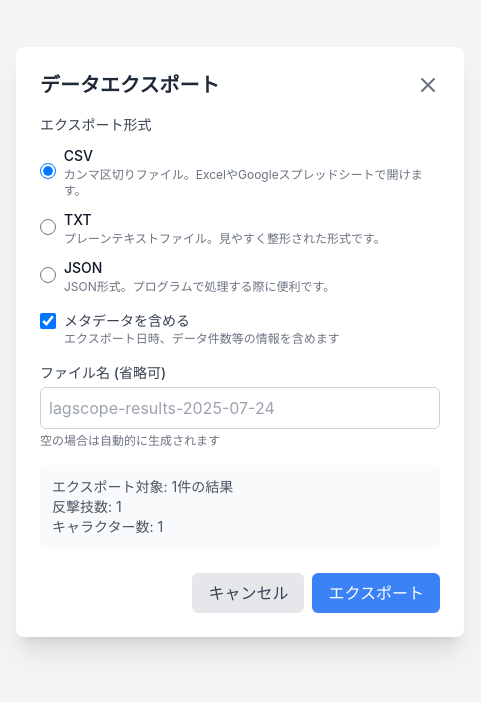
Scenario: ExportModal › エクスポートでエラーが発生した場合はエラーメッセージを表示する
The image size is (481, 702).
Step 1. Click the button "エクスポート" → (376, 593), box [312,573,440,613]
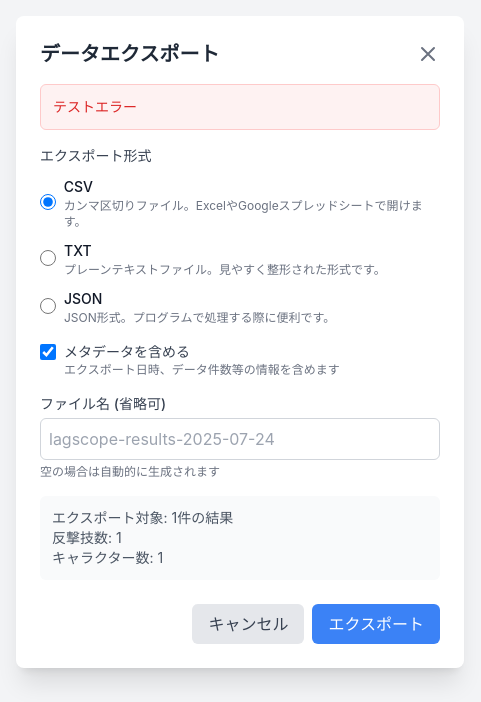
Result: the text "テストエラー" is shown at [53,98,137,115]
